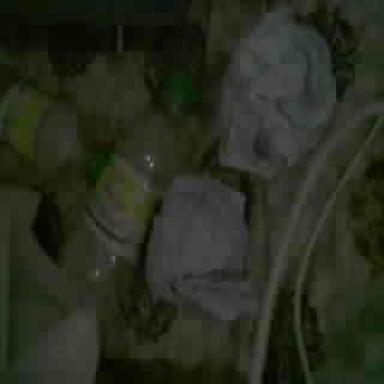bottle: (52, 76, 202, 297)
paper: (214, 8, 335, 178), (146, 176, 254, 318)
